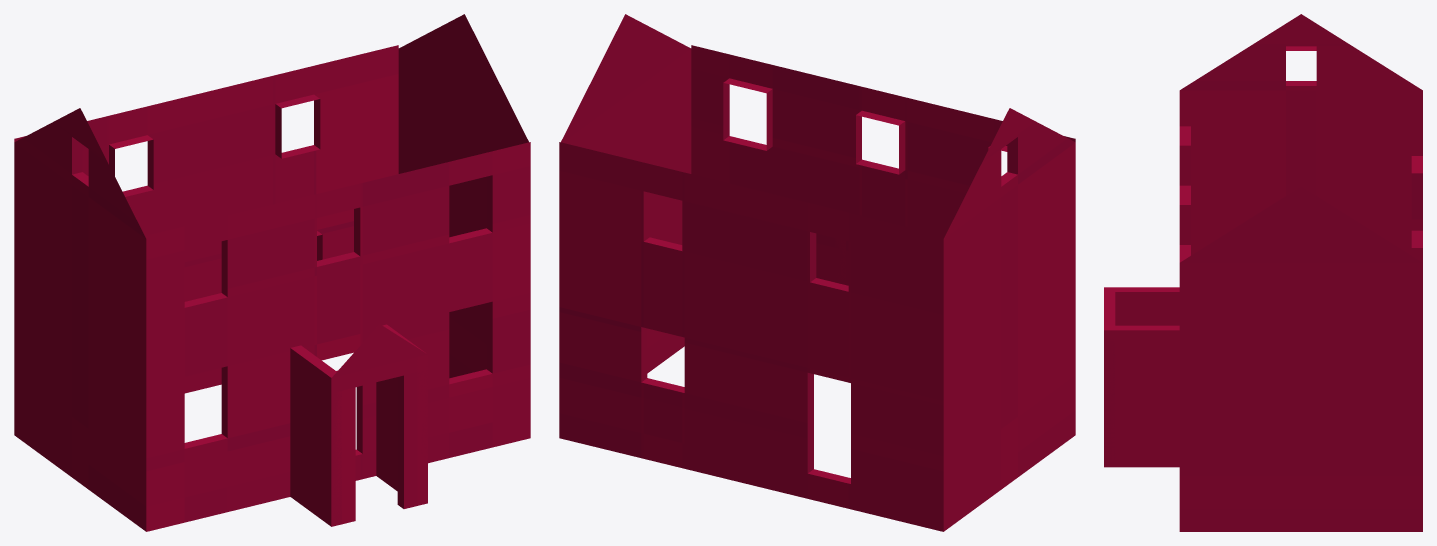
Rendered from SM_Bld_211_Masonry.glb.
3 renders of one model, left to right at view 1: azimuth 30°, elevation 25°; view 2: azimuth 150°, elevation 25°; view 3: azimuth 270°, elevation 25°, orthographic. The views are drawn at different scales.
Visible parts, largest first — view 1: SM_Bld_211_Masonry; view 2: SM_Bld_211_Masonry; view 3: SM_Bld_211_Masonry.
Part boxes in pixels (x1,y1,x2,y2): SM_Bld_211_Masonry: (14,14,530,531); SM_Bld_211_Masonry: (559,14,1075,531); SM_Bld_211_Masonry: (1104,14,1422,531).
Size of the model in its own units: 7.97 by 7.45 by 6.23.
